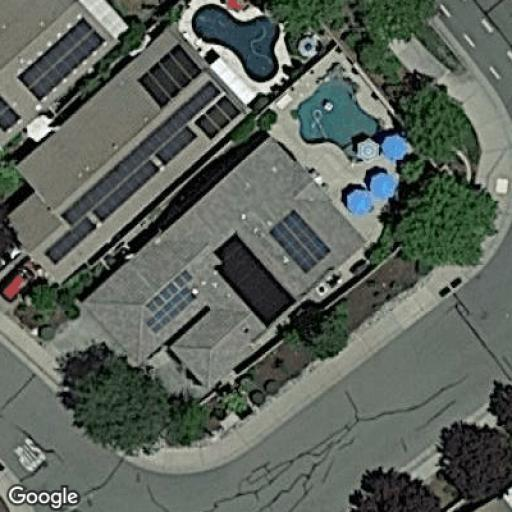solar-panel: (61, 125, 160, 222), (210, 229, 296, 330), (14, 13, 108, 104), (156, 79, 221, 168), (264, 204, 332, 277), (136, 42, 204, 109), (142, 266, 200, 336), (43, 214, 98, 267), (192, 93, 244, 142), (0, 94, 23, 133)
